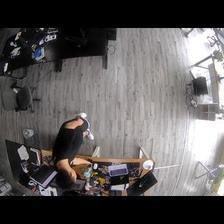normal: (54, 112, 93, 188)
